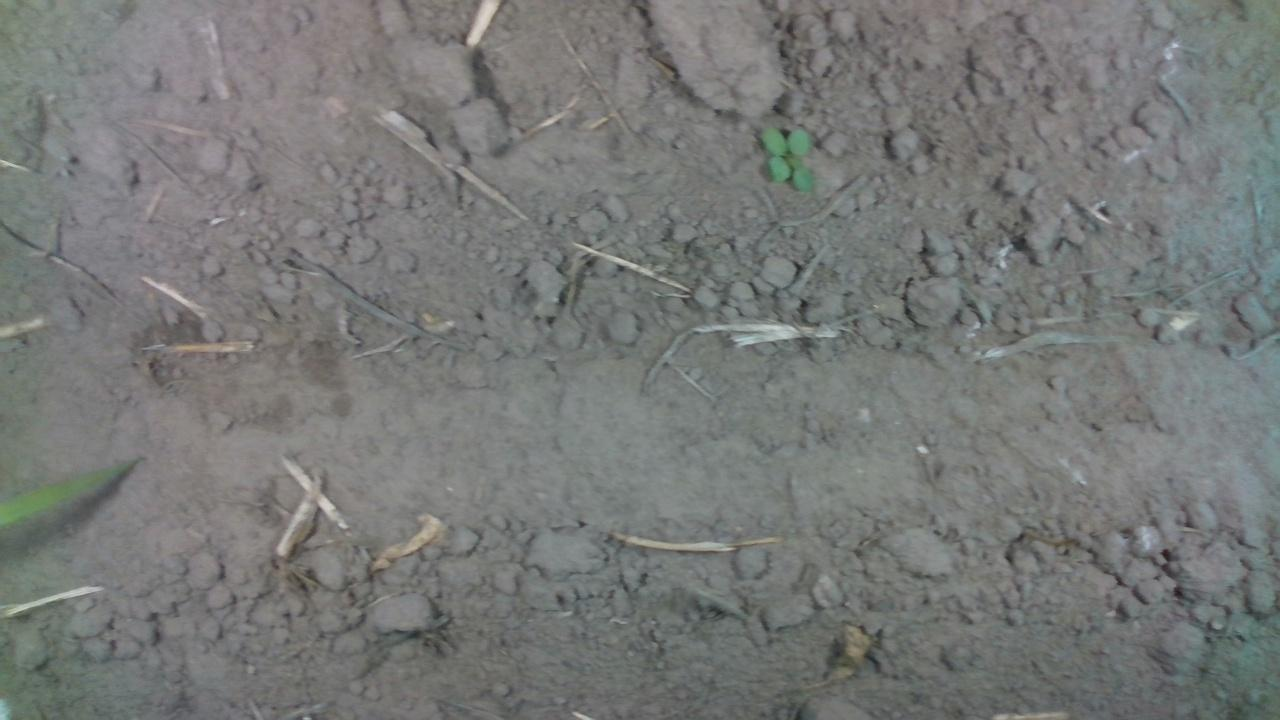weed: (758, 124, 816, 192)
